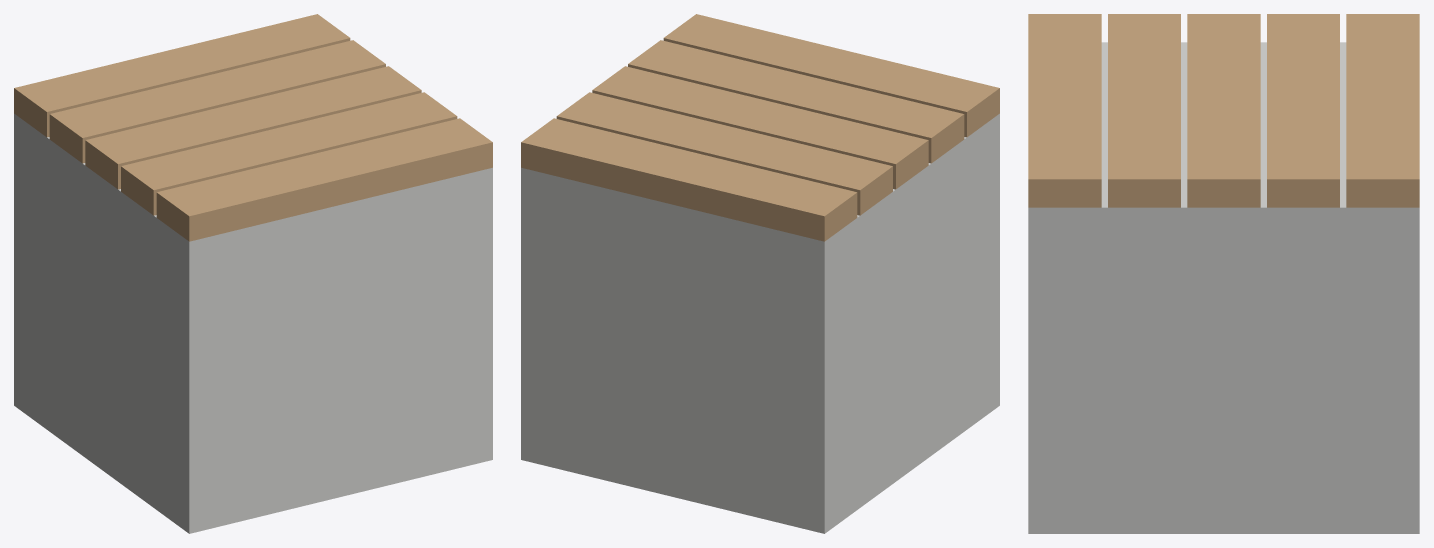
The model's file is concrete_wood_seat1.fbx.
3 views of the same model, side by side, from view 1: azimuth 30°, elevation 25°; view 2: azimuth 150°, elevation 25°; view 3: azimuth 270°, elevation 25° (orthographic). The views are drawn at different scales.
Visible parts, largest first — view 1: Module_Concrete_Wood_Base, Module_Concrete_Wood; view 2: Module_Concrete_Wood_Base, Module_Concrete_Wood; view 3: Module_Concrete_Wood_Base, Module_Concrete_Wood.
Boxes of the visible parts, x1,y1,x2,y2 form: Module_Concrete_Wood_Base: [14, 113, 492, 533]; Module_Concrete_Wood: [14, 14, 492, 241]; Module_Concrete_Wood_Base: [521, 113, 999, 533]; Module_Concrete_Wood: [521, 14, 999, 241]; Module_Concrete_Wood_Base: [1028, 42, 1419, 533]; Module_Concrete_Wood: [1028, 14, 1419, 207].
Bounding box in the file's own units: 50 × 50 × 50.
